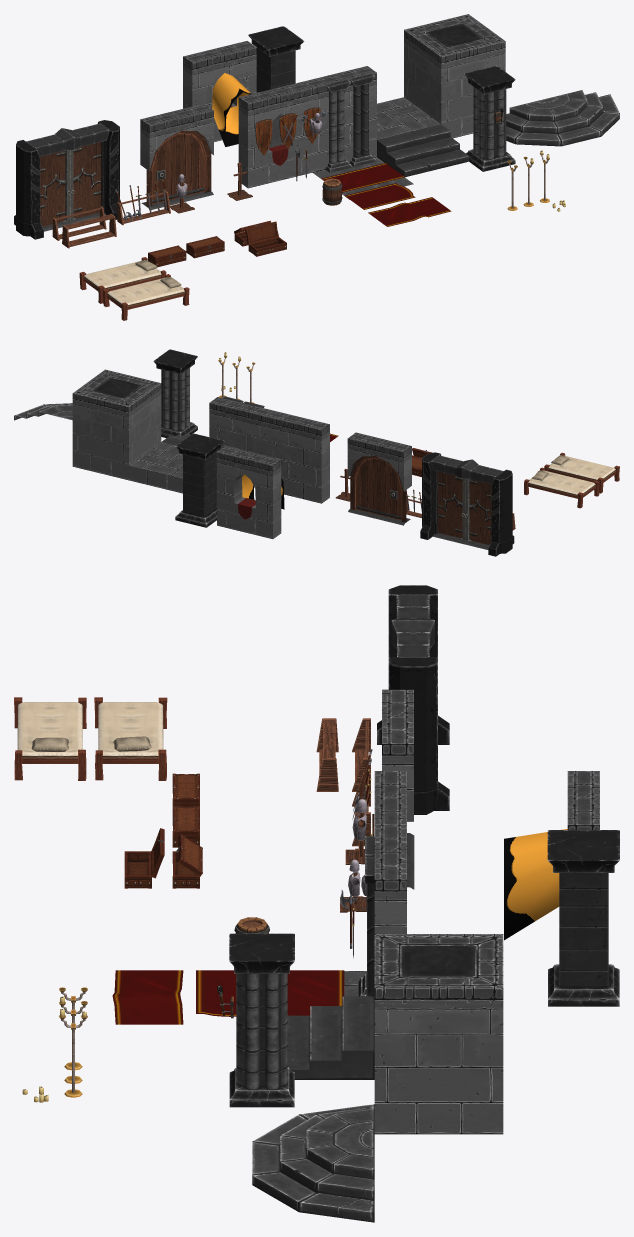
File: castle.fbx
The picture shows the model from 3 angles, top to bottom: view 1: azimuth 30°, elevation 25°; view 2: azimuth 150°, elevation 25°; view 3: azimuth 270°, elevation 25°; orthographic projection. The views are drawn at different scales.
Parts seen in each view (by area): view 1: wall4, doorway2, wall2, stairs1, pillar1, doorway1, wall3, wall1, stairs2, door, pillar2, gate2 (+20 smaller); view 2: wall4, wall3, wall2, doorway2, pillar2, doorway1, wall1, pillar1, door, floor2, gate2, gate1 (+4 smaller); view 3: wall4, stairs1, pillar2, pillar1, doorway2, stairs2, bed2, light, bed1, carpet2, wall1, doorway1 (+10 smaller).
Boxes of the visible parts, x1,y1,x2,y2 form: wall4: (404, 14, 505, 138); doorway2: (14, 120, 119, 239); wall2: (238, 81, 312, 188); stairs1: (506, 90, 619, 146); pillar1: (464, 65, 515, 171); doorway1: (140, 103, 213, 209); wall3: (183, 41, 256, 141); wall1: (303, 66, 376, 172); stairs2: (377, 124, 469, 177); door: (152, 133, 204, 204); pillar2: (248, 26, 304, 92); gate2: (70, 142, 101, 220); wall4: (72, 369, 161, 480); wall3: (217, 446, 281, 538); wall2: (265, 410, 329, 503); doorway2: (420, 452, 514, 556); pillar2: (175, 433, 224, 527); doorway1: (347, 432, 411, 525); wall1: (209, 397, 273, 455); pillar1: (153, 349, 197, 437); door: (356, 458, 401, 520); floor2: (129, 442, 182, 493); gate2: (438, 471, 465, 539); gate1: (465, 479, 491, 545); wall4: (374, 934, 503, 1134); stairs1: (252, 1104, 374, 1222); pillar2: (547, 830, 619, 1006); pillar1: (229, 933, 294, 1107); doorway2: (377, 585, 449, 814); stairs2: (287, 996, 374, 1079); bed2: (94, 697, 167, 780); light: (504, 829, 567, 940); bed1: (14, 697, 86, 780); carpet2: (112, 970, 183, 1024); wall1: (374, 825, 406, 933); doorway1: (382, 689, 414, 889).
Bounding box in the file's own units: 73.39 × 10.63 × 37.67.
